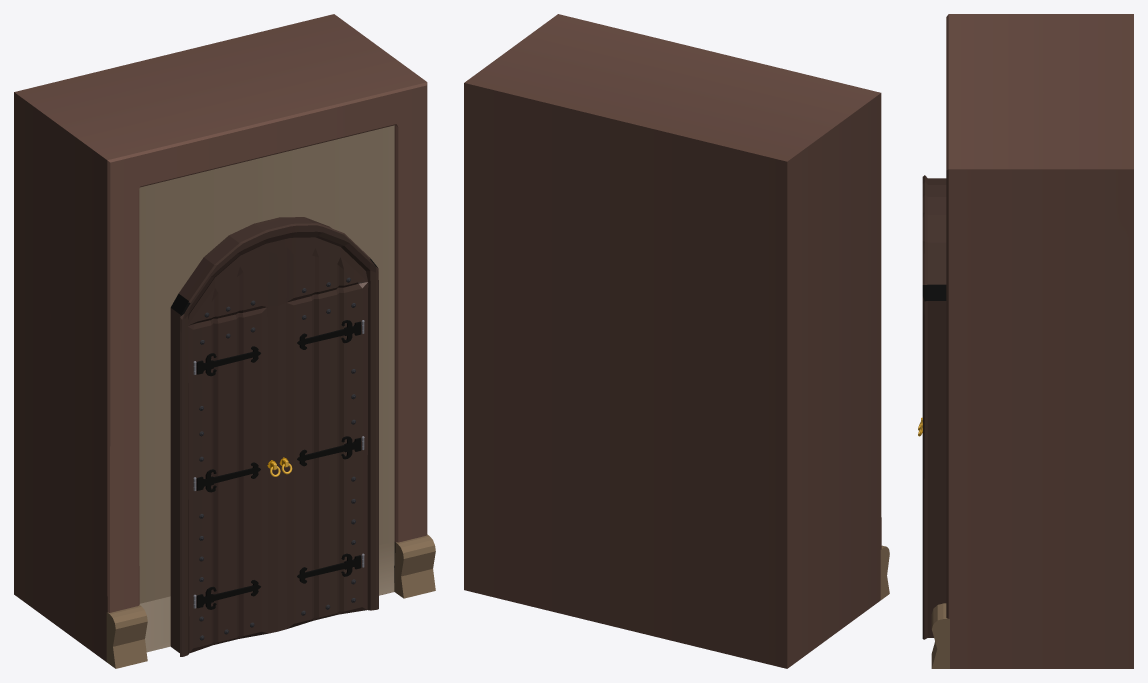
Rendered from porta_Lab_LoPo.fbx.
The picture shows the model from 3 angles, left to right: view 1: azimuth 30°, elevation 25°; view 2: azimuth 150°, elevation 25°; view 3: azimuth 270°, elevation 25°; orthographic projection.
Visible parts, largest first — view 1: portaMadeira_Lab_LoPo; view 2: portaMadeira_Lab_LoPo; view 3: portaMadeira_Lab_LoPo.
Part boxes in pixels (bbox=[...]): portaMadeira_Lab_LoPo: bbox=[14, 14, 435, 668]; portaMadeira_Lab_LoPo: bbox=[464, 14, 889, 668]; portaMadeira_Lab_LoPo: bbox=[918, 14, 1133, 668].
Bounding box in the file's own units: 200 × 300 × 117.
